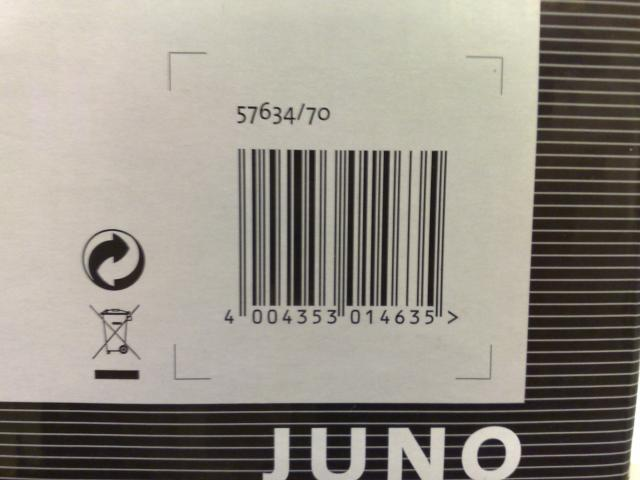Barcode: (218, 147, 465, 336)
